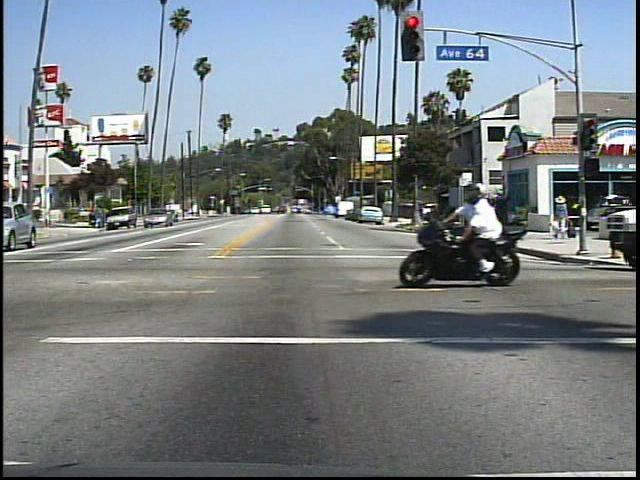person: (454, 177, 519, 282), (551, 192, 575, 239)
